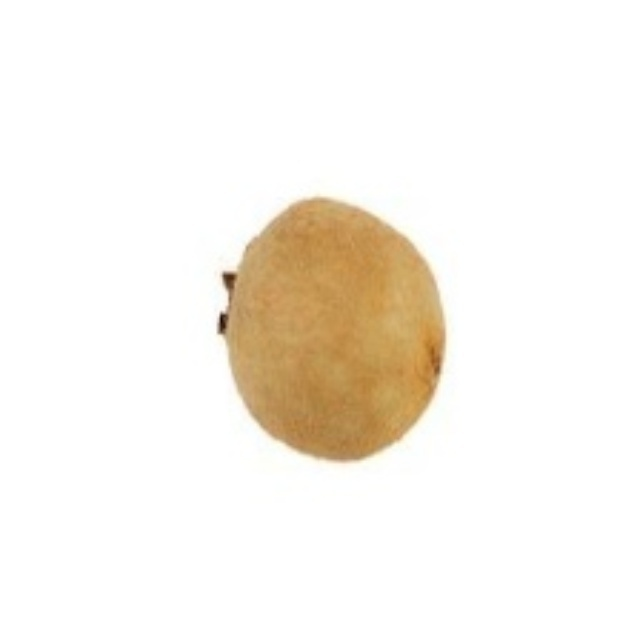kiwi: (201, 198, 471, 479)
